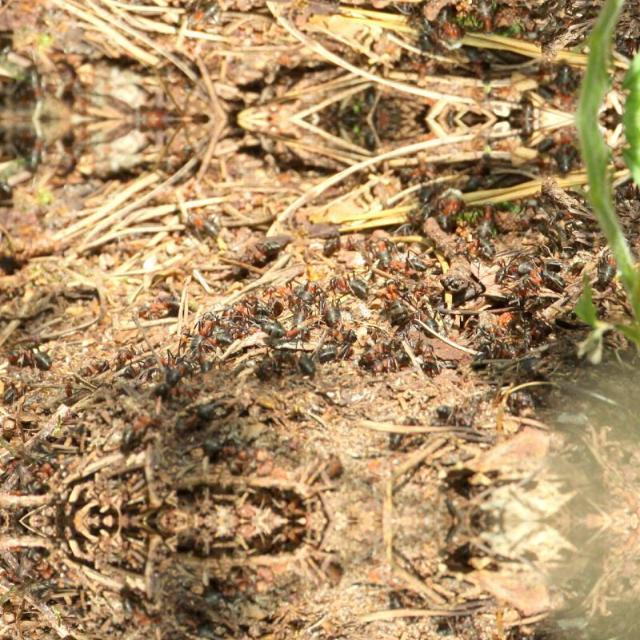Formica: (166, 392, 222, 442), (234, 230, 292, 274), (166, 598, 222, 640), (326, 259, 378, 303), (381, 270, 421, 326), (112, 596, 158, 640), (112, 400, 158, 442), (162, 348, 202, 390), (0, 364, 40, 404), (265, 318, 321, 346), (12, 334, 58, 368), (370, 233, 406, 273), (186, 203, 230, 235), (186, 1, 230, 33), (260, 276, 308, 302), (474, 195, 504, 233), (474, 3, 504, 41)
